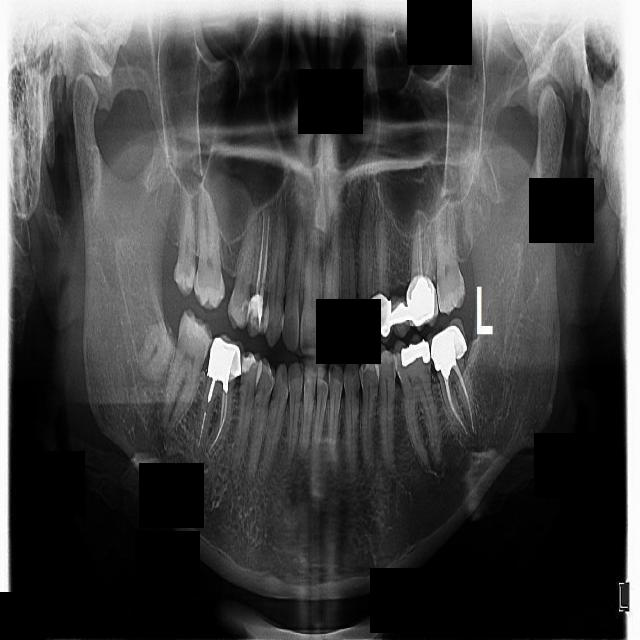71: (205, 378, 218, 404)
72: (131, 317, 183, 384)
74: (452, 363, 479, 433), (441, 375, 467, 437), (209, 390, 232, 454), (260, 212, 273, 298), (255, 209, 267, 294), (416, 210, 423, 275), (425, 242, 434, 278), (199, 412, 207, 448)
NucleOSS Implant: (203, 344, 237, 394), (429, 337, 464, 379), (399, 339, 431, 367)
Sterngold Implant: (186, 254, 195, 278)
Straumann Implant: (247, 292, 264, 329), (242, 353, 255, 374)
Zimmer Implant: (419, 315, 478, 371), (399, 271, 443, 329), (207, 332, 248, 382), (388, 295, 415, 341), (370, 292, 393, 344)
